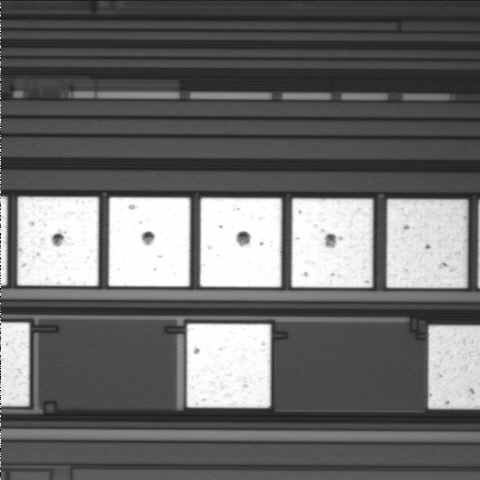pad: (17, 197, 99, 286), (109, 197, 190, 287), (200, 198, 281, 287), (292, 199, 373, 288), (387, 199, 467, 288), (187, 324, 271, 408)
